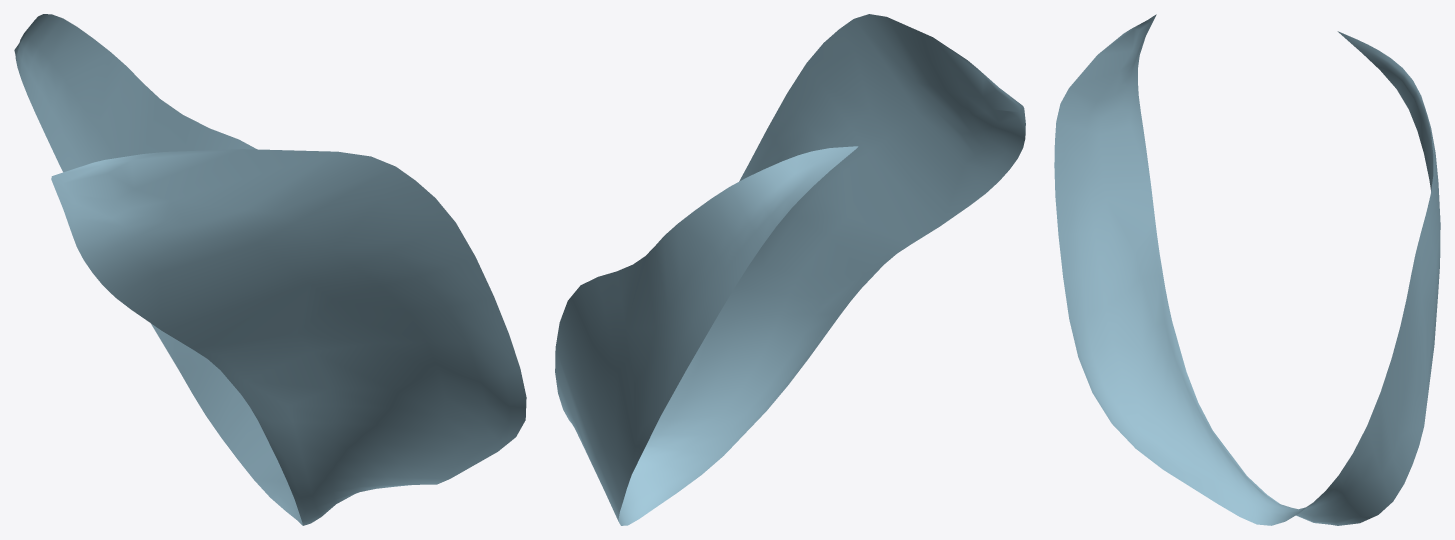
File: articulacoes-frenula-capsulae-r.glb
3 views of the same model, side by side, from view 1: azimuth 30°, elevation 25°; view 2: azimuth 150°, elevation 25°; view 3: azimuth 270°, elevation 25° (orthographic). The views are drawn at different scales.
Visible parts, largest first — view 1: Frenula capsulae.r; view 2: Frenula capsulae.r; view 3: Frenula capsulae.r.
Boxes of the visible parts, x1=… form: Frenula capsulae.r: x1=14, y1=14, x2=526, y2=525; Frenula capsulae.r: x1=555, y1=14, x2=1025, y2=525; Frenula capsulae.r: x1=1054, y1=14, x2=1440, y2=525.
Size of the model in its own units: 0.0371 by 0.0416 by 0.0367.
